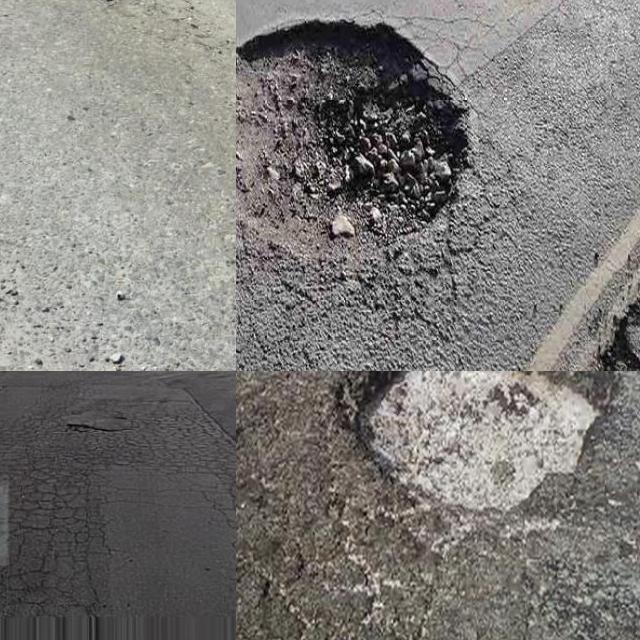Lubang: (236, 20, 467, 259), (334, 371, 626, 524)
Retak Buaya: (0, 386, 236, 615)
